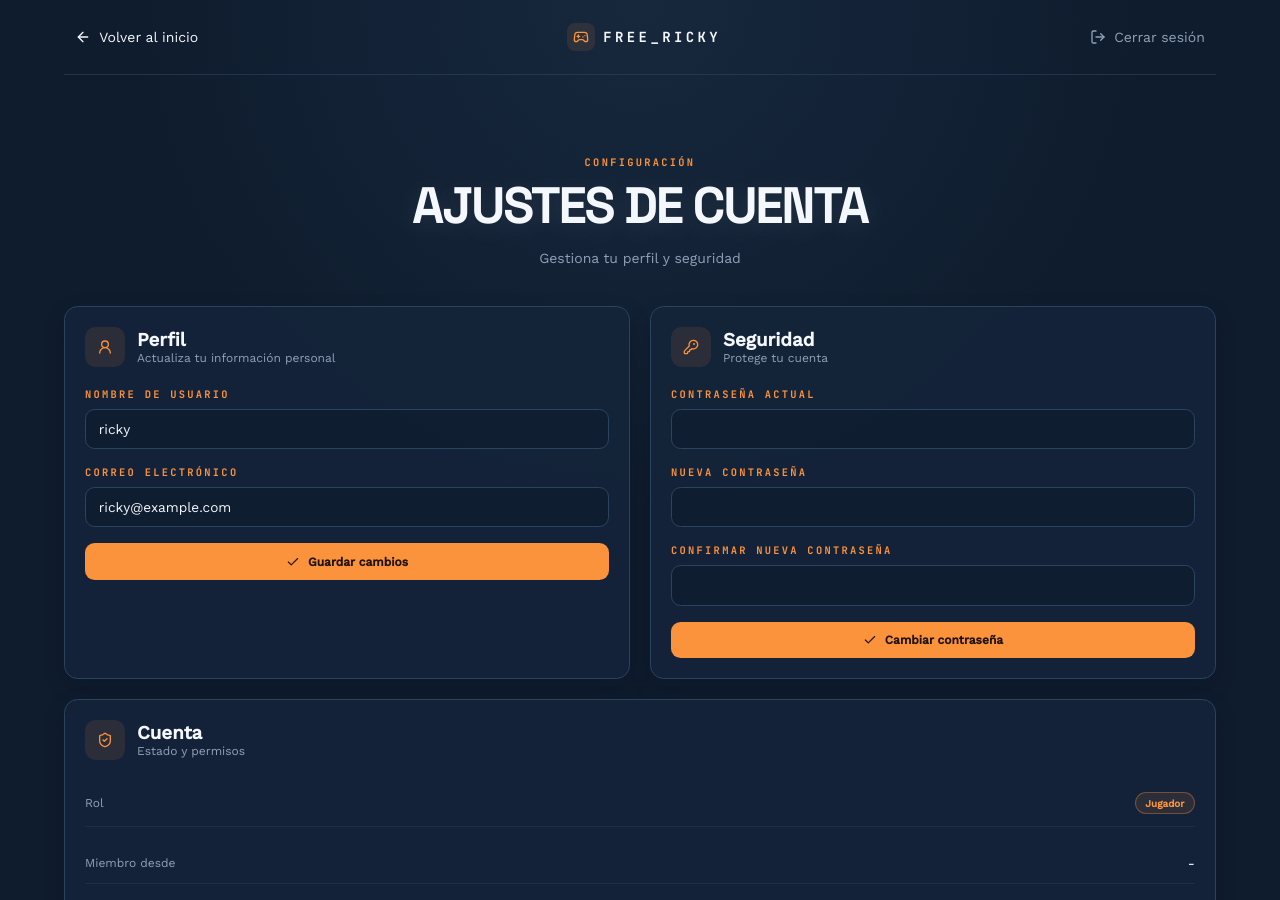
Test: Settings › no envía nada si el nombre de usuario queda vacío
Clear the field showing "ricky": (347, 429) [85,409,609,449]
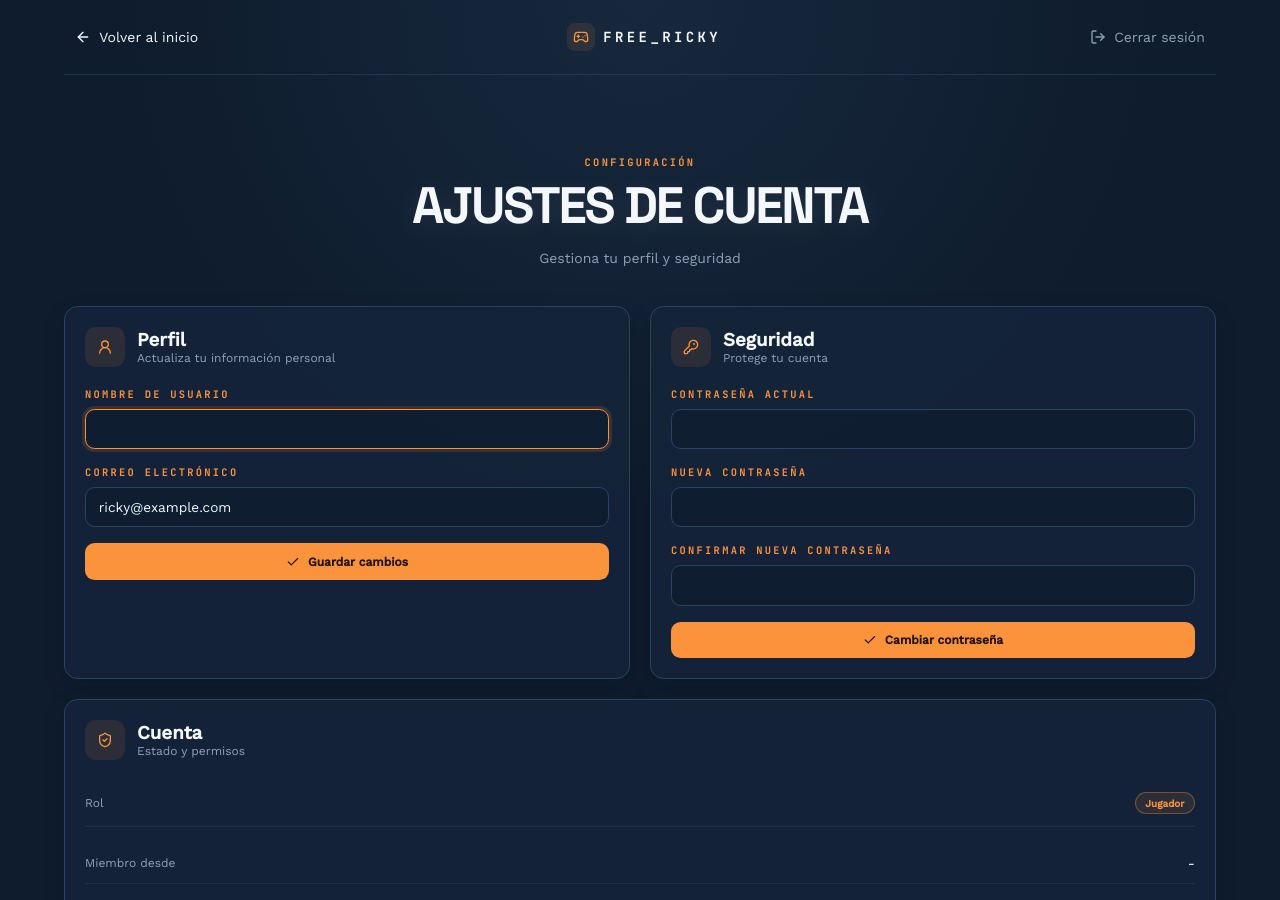
Click the button "Guardar cambios": (347, 562) [85,543,609,580]
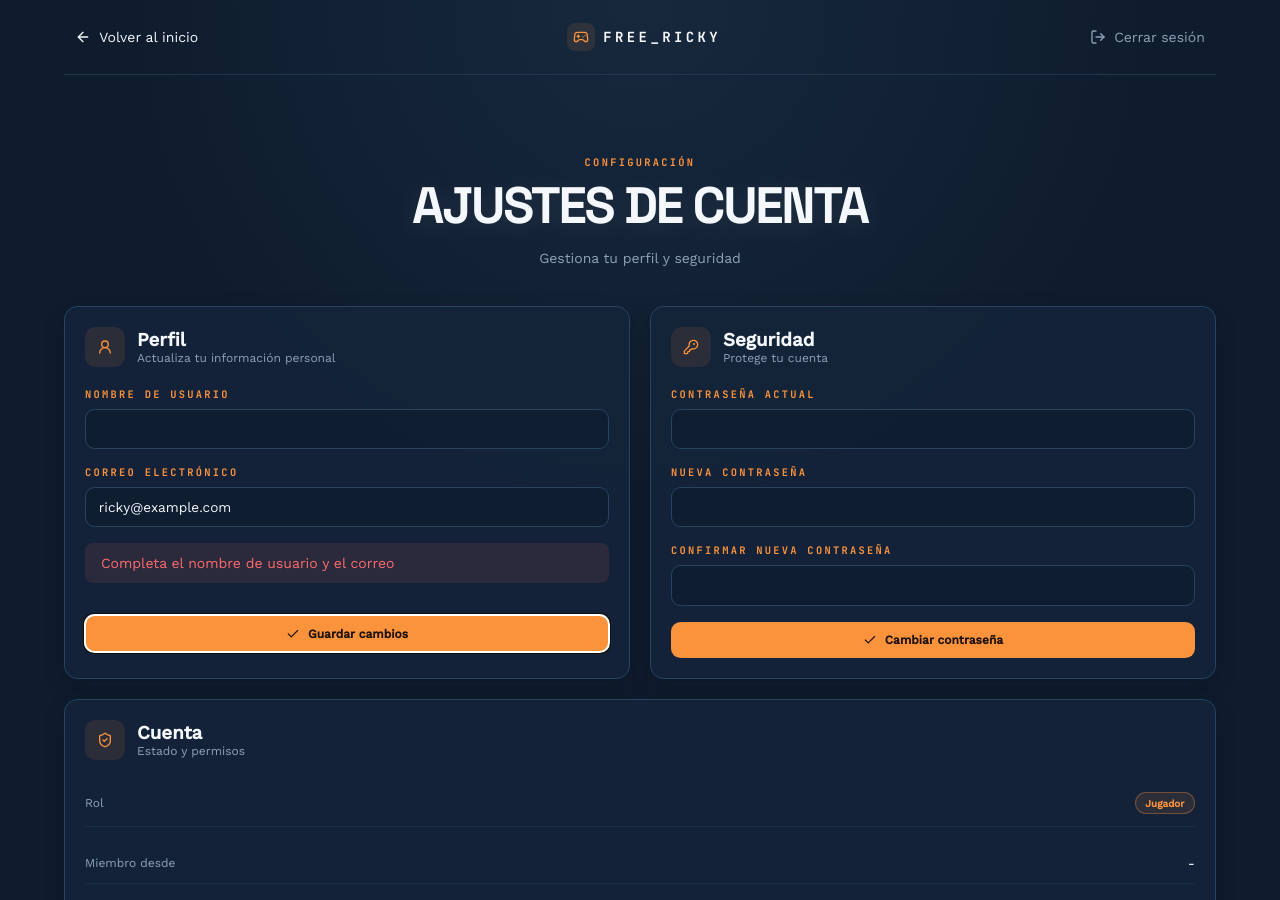
Expected: the message reads "Completa el nombre de usuario y el correo", [101,555,394,571]
